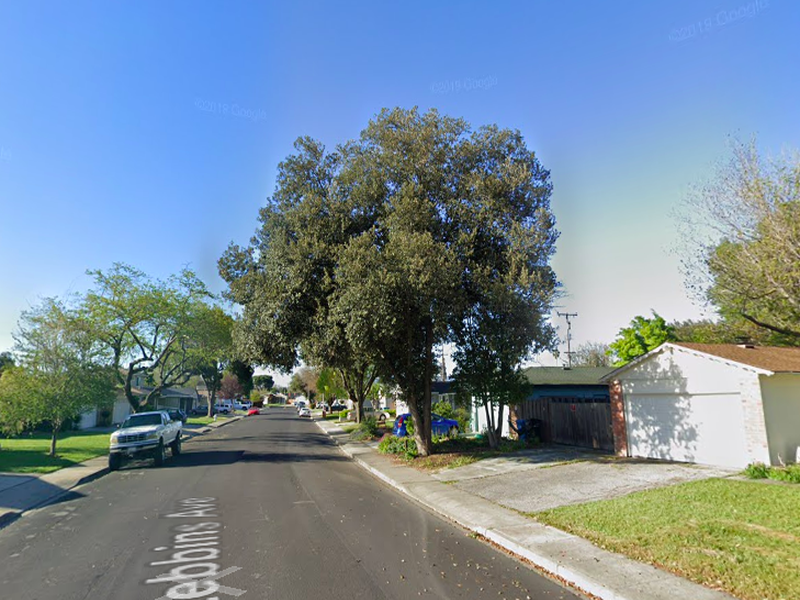tree: (331, 103, 467, 461), (219, 135, 381, 428), (430, 123, 570, 450)
